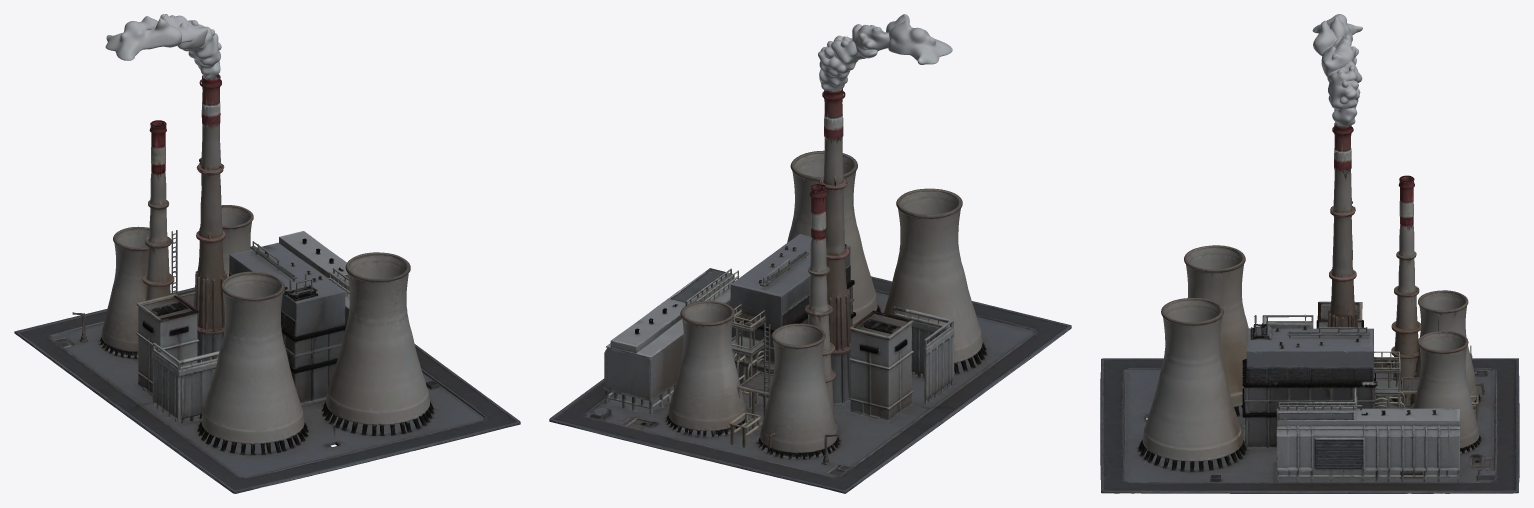
Rendered from fossil.glb.
3 renders of one model, left to right at view 1: azimuth 30°, elevation 25°; view 2: azimuth 150°, elevation 25°; view 3: azimuth 270°, elevation 25°, orthographic. The views are drawn at different scales.
Visible parts, largest first — view 1: tripo_node_583be4a0-dedb-4b4f-aee6-27b527ffbfa5; view 2: tripo_node_583be4a0-dedb-4b4f-aee6-27b527ffbfa5; view 3: tripo_node_583be4a0-dedb-4b4f-aee6-27b527ffbfa5.
Boxes of the visible parts, x1=… form: tripo_node_583be4a0-dedb-4b4f-aee6-27b527ffbfa5: x1=14, y1=14, x2=520, y2=493; tripo_node_583be4a0-dedb-4b4f-aee6-27b527ffbfa5: x1=549, y1=14, x2=1071, y2=493; tripo_node_583be4a0-dedb-4b4f-aee6-27b527ffbfa5: x1=1100, y1=14, x2=1519, y2=493.
Bounding box in the file's own units: 0.7445 × 0.9397 × 0.9843.
Materials: 1 (1 with a texture image).
